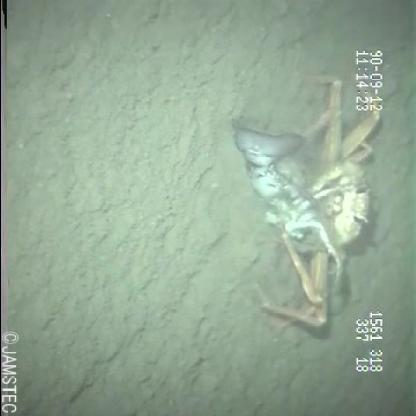Bio: (231, 68, 383, 336)
